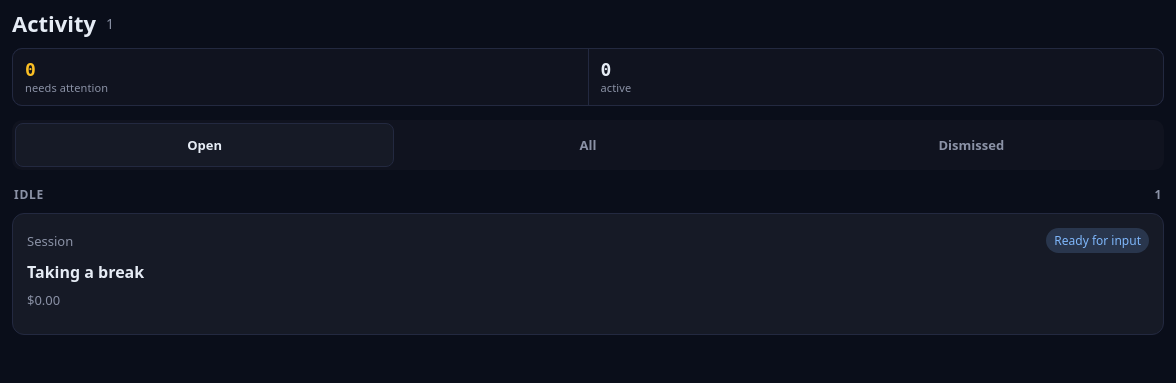
ActivityScreen › keeps the summary controls available when a selected filter has no matches
Click the button with aria-label "needs attention: 0. filter activity" at [67, 88], box [13,49,588,105]
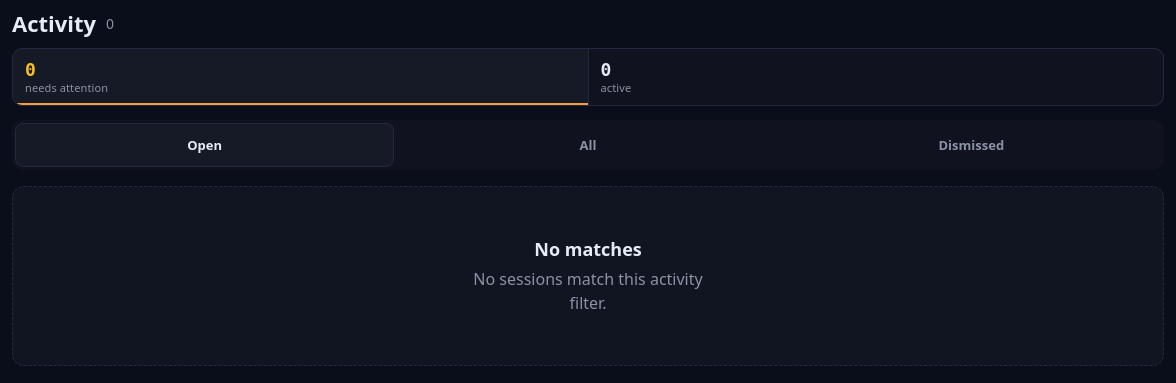
Result: the text "No sessions match this activity filter." is shown at [460,268,716,315]
Click the button named "needs attention: 0. filter activity" at [67, 88], box [13,49,588,105]
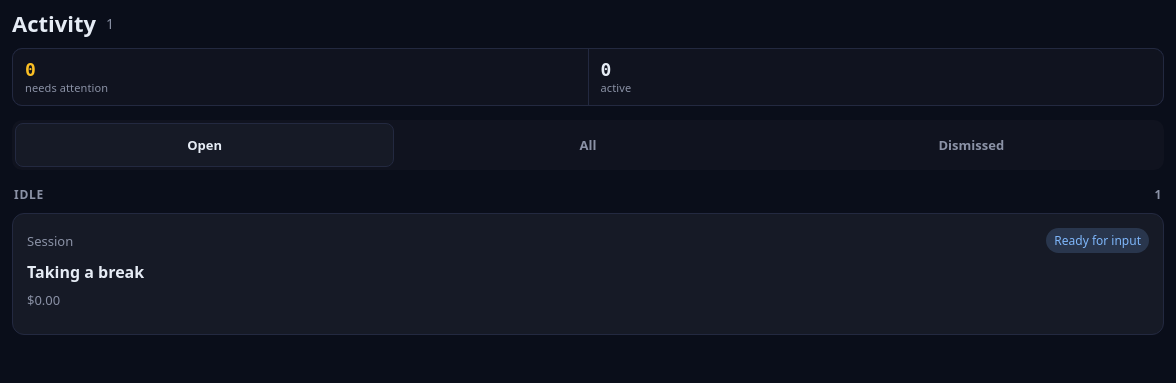
Result: the text "Taking a break" is shown at [27,261,144,283]
